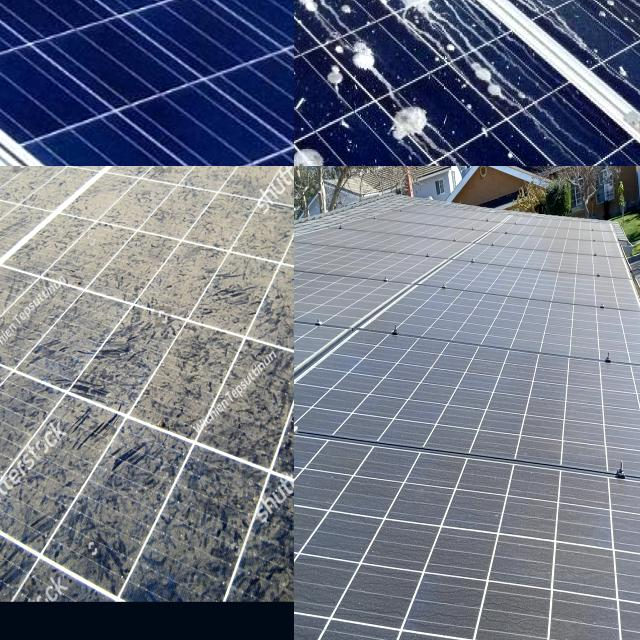bird: (386, 97, 479, 166), (464, 0, 534, 59), (321, 34, 394, 86), (459, 49, 516, 100), (544, 0, 608, 45), (426, 0, 513, 28), (370, 0, 435, 34), (294, 0, 348, 35), (525, 0, 592, 27), (377, 0, 427, 34), (294, 0, 341, 27)
crack: (0, 0, 294, 166)
dust: (0, 166, 195, 290), (294, 522, 496, 640), (0, 316, 79, 557), (138, 442, 238, 580), (517, 546, 640, 640), (369, 350, 484, 442), (235, 171, 294, 344), (505, 384, 640, 454), (508, 470, 640, 539), (294, 447, 405, 514), (0, 170, 46, 295), (30, 166, 165, 201), (552, 307, 640, 353), (436, 296, 534, 337), (168, 323, 206, 423), (301, 374, 363, 434), (240, 336, 269, 451), (294, 277, 356, 317), (294, 334, 318, 371)
